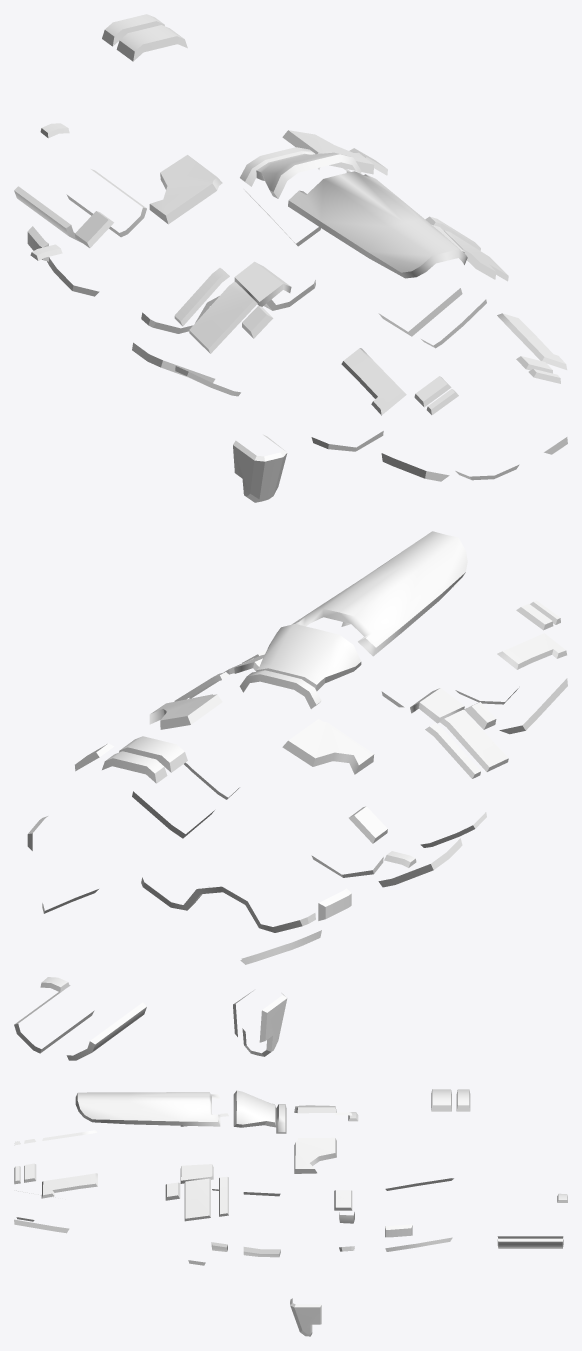
Rendered from ama_cf_anci_01.glb.
3 renders of one model, top to bottom at view 1: azimuth 30°, elevation 25°; view 2: azimuth 150°, elevation 25°; view 3: azimuth 270°, elevation 25°, orthographic. The views are drawn at different scales.
Visible parts, largest first — view 1: ama_ancient_ship_01_LOD0; view 2: ama_ancient_ship_01_LOD0; view 3: ama_ancient_ship_01_LOD0.
Part boxes in pixels (left/top/right/bottom): ama_ancient_ship_01_LOD0: left=14, top=14, right=567, bottom=502; ama_ancient_ship_01_LOD0: left=14, top=531, right=567, bottom=1060; ama_ancient_ship_01_LOD0: left=14, top=1089, right=567, bottom=1336.
Size of what is drawn, in the model's own units: 1.44 by 1.54 by 3.23.
Materials: 1 (1 with a texture image).
